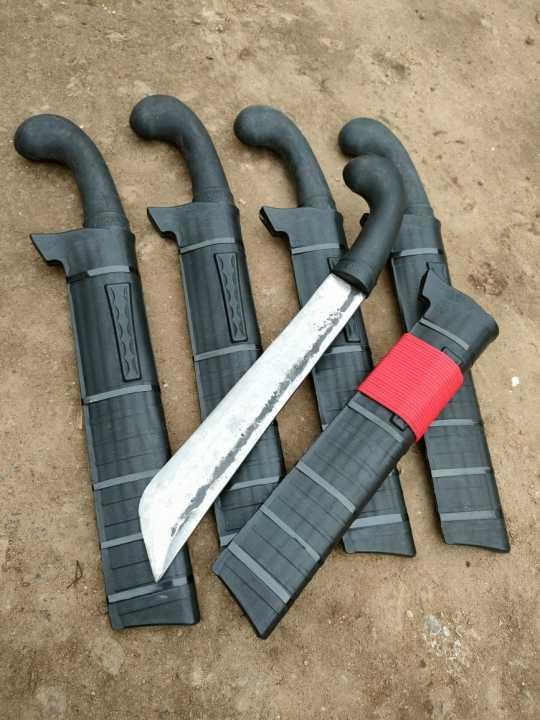facao: (142, 151, 394, 599)
